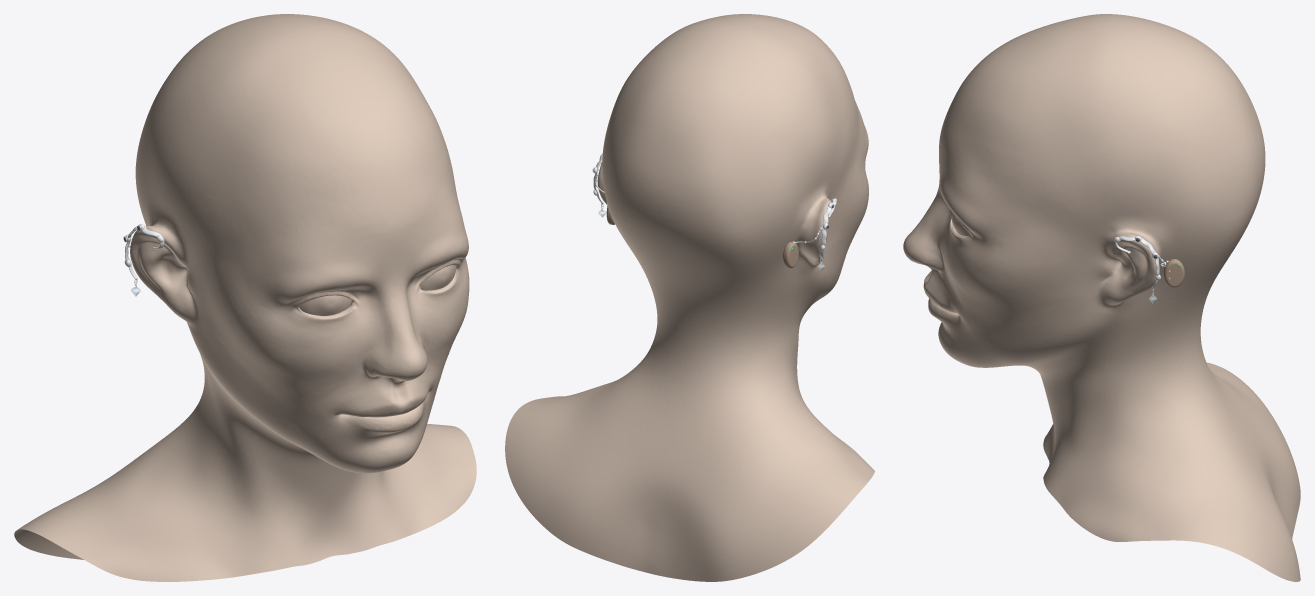
The model's file is vibra-safe-worn.glb.
3 renders of one model, left to right at view 1: azimuth 30°, elevation 25°; view 2: azimuth 150°, elevation 25°; view 3: azimuth 270°, elevation 25°, orthographic. The views are drawn at different scales.
Parts seen in each view (by area): view 1: HeadBust; view 2: HeadBust; view 3: HeadBust.
Part boxes in pixels (left/top/right/bottom): HeadBust: left=14, top=14, right=476, bottom=581; HeadBust: left=505, top=14, right=874, bottom=581; HeadBust: left=903, top=14, right=1300, bottom=581.
Size of the model in its own units: 0.3031 by 0.4109 by 0.2807.
